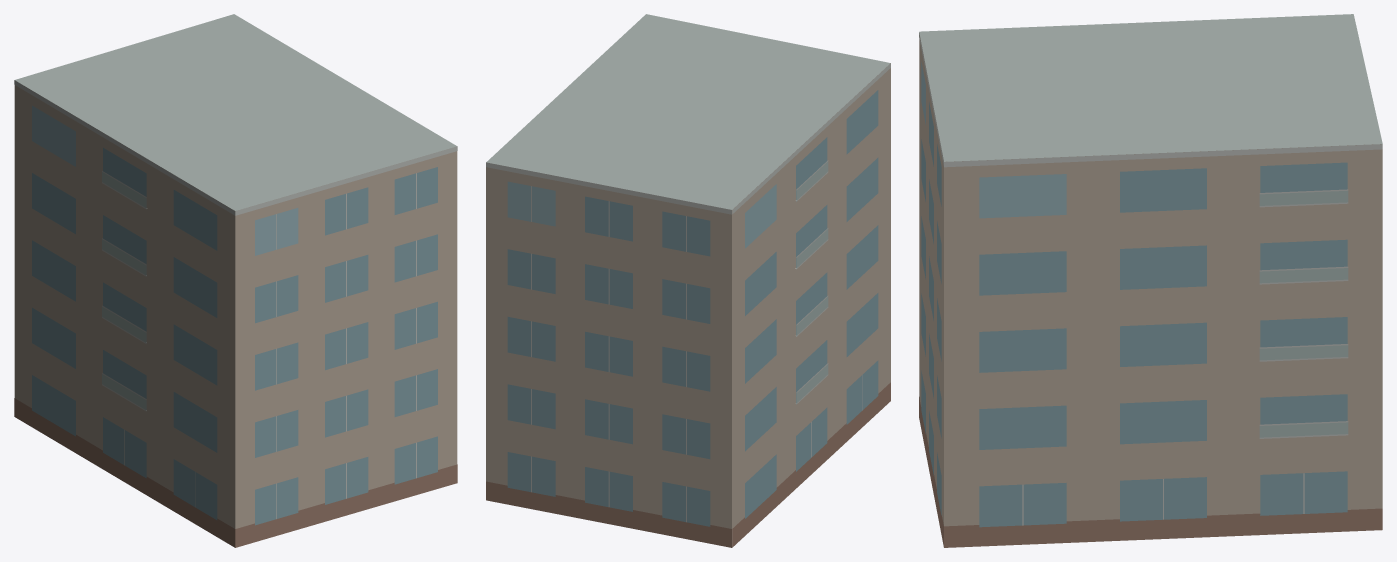
The model's file is survey-upis-32994153.glb.
The picture shows the model from 3 angles, left to right: view 1: azimuth 30°, elevation 25°; view 2: azimuth 150°, elevation 25°; view 3: azimuth 270°, elevation 25°; orthographic projection. The views are drawn at different scales.
Parts seen in each view (by area): view 1: survey-upis-32994153.tmp; view 2: survey-upis-32994153.tmp; view 3: survey-upis-32994153.tmp.
Part boxes in pixels (x1,y1,x2,y2): survey-upis-32994153.tmp: (14,14,457,547); survey-upis-32994153.tmp: (486,14,890,547); survey-upis-32994153.tmp: (919,14,1382,547).
Bounding box in the file's own units: 14.26 × 17.35 × 18.9.
